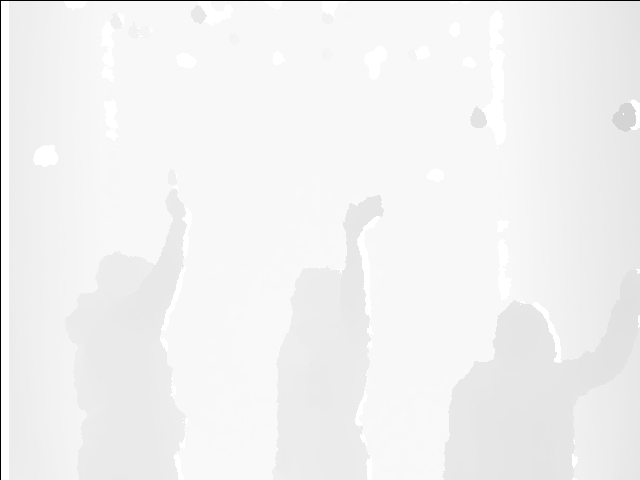hand: (341, 194, 384, 239), (165, 188, 190, 228)
